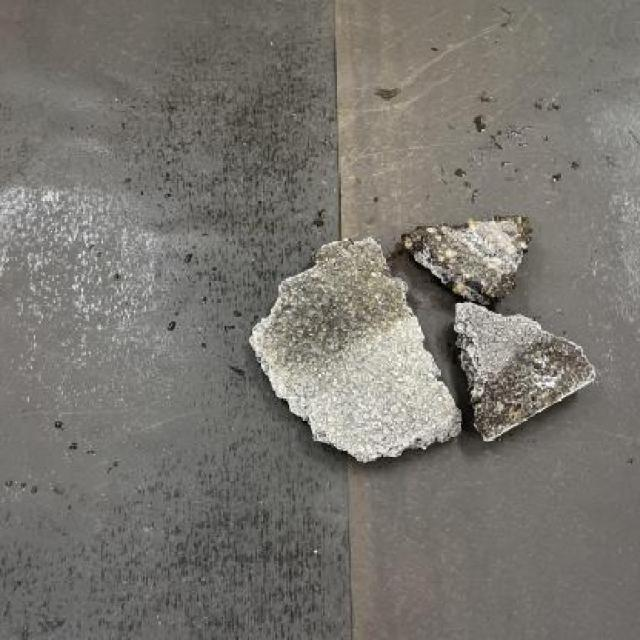Road Debris: (249, 242, 403, 352), (460, 347, 602, 435), (408, 233, 503, 304)
